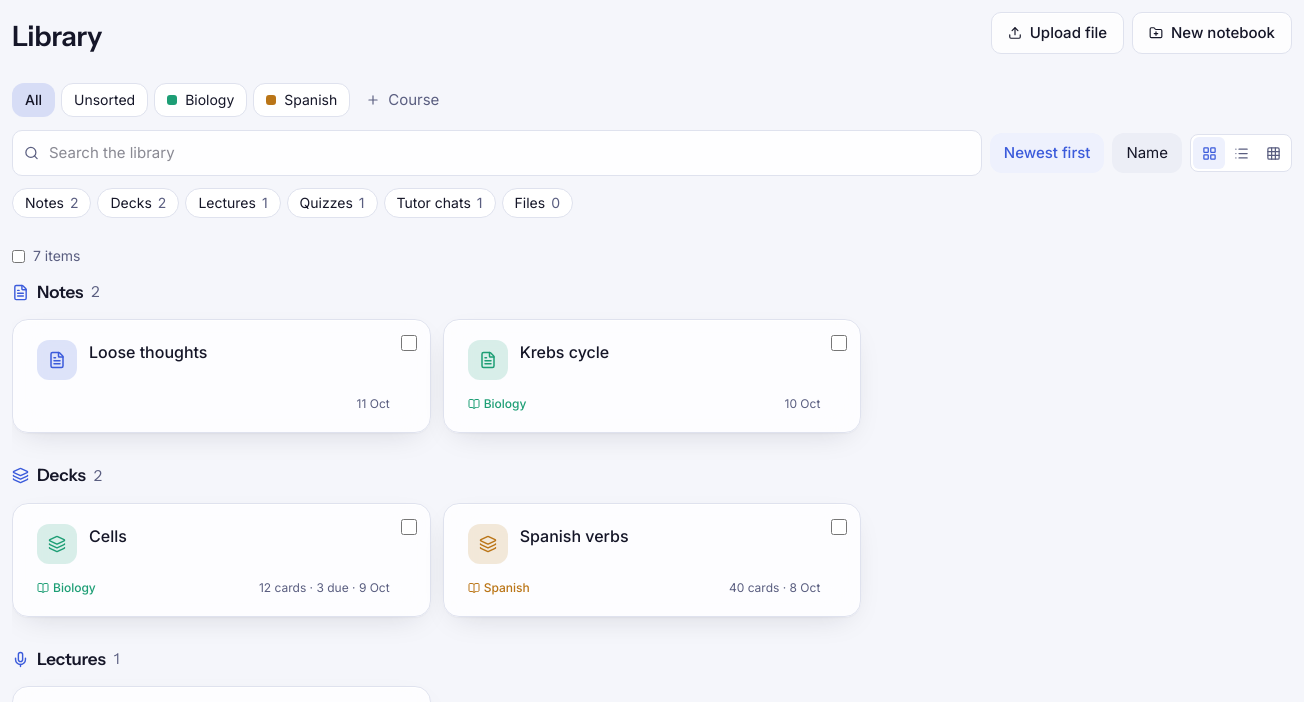
Scenario: Library › moving › drops a ticked item that is no longer in the list after a refresh
Click the checkbox named "Krebs cycle". click: (839, 343)
box: [831,335,847,351]
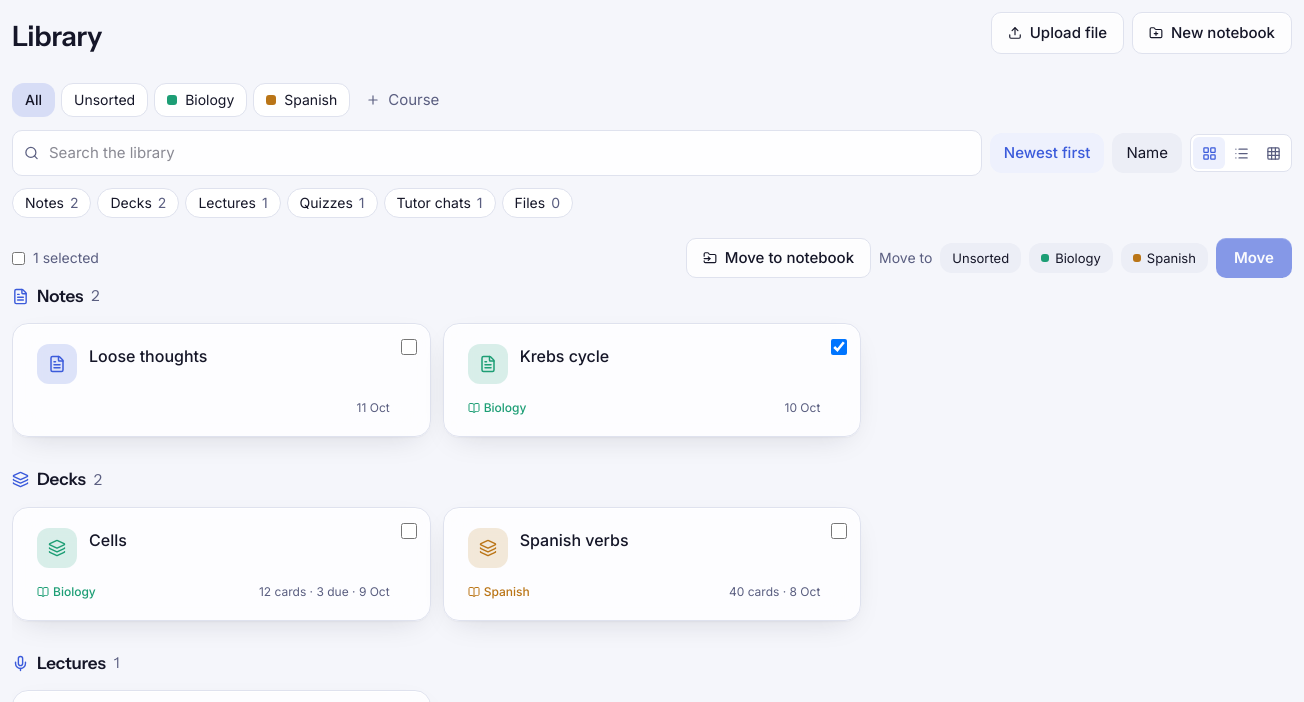
Click the radio button labelled "Spanish". click: (1164, 258)
box: [1121,243,1208,273]
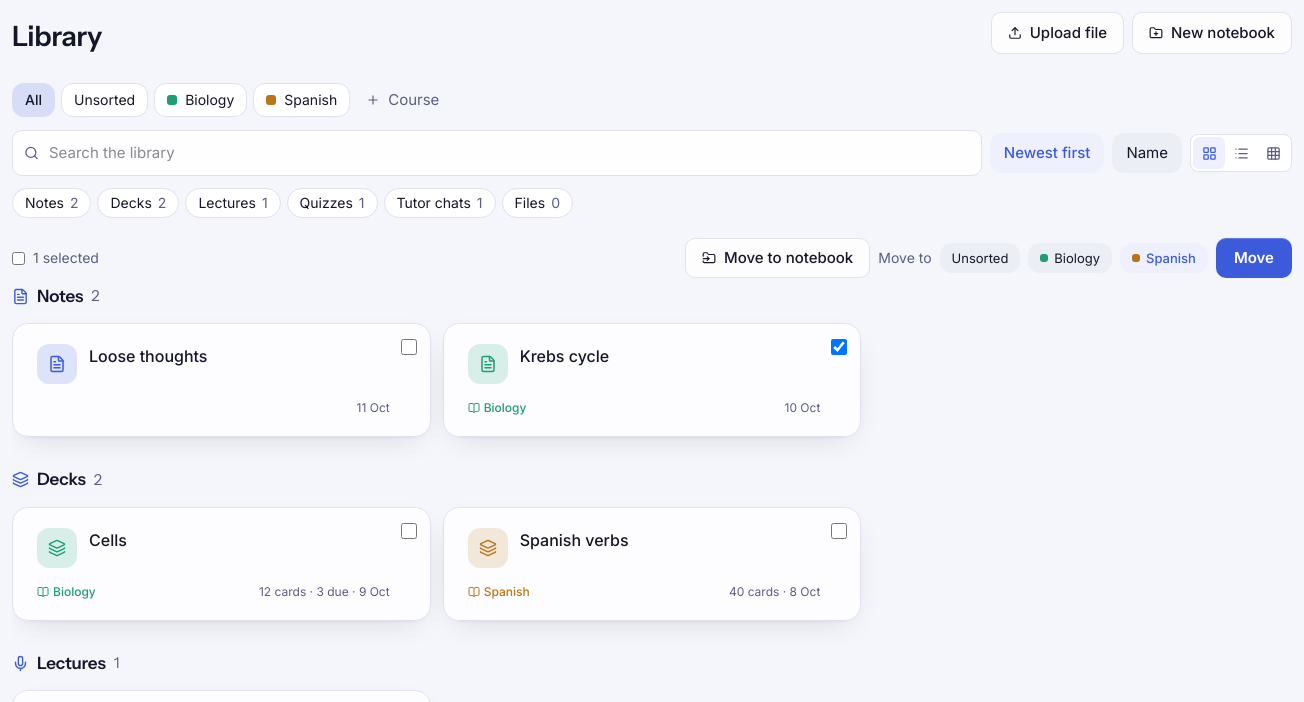
Click the button "Move". click: (1254, 258)
box: [1216,238,1292,278]
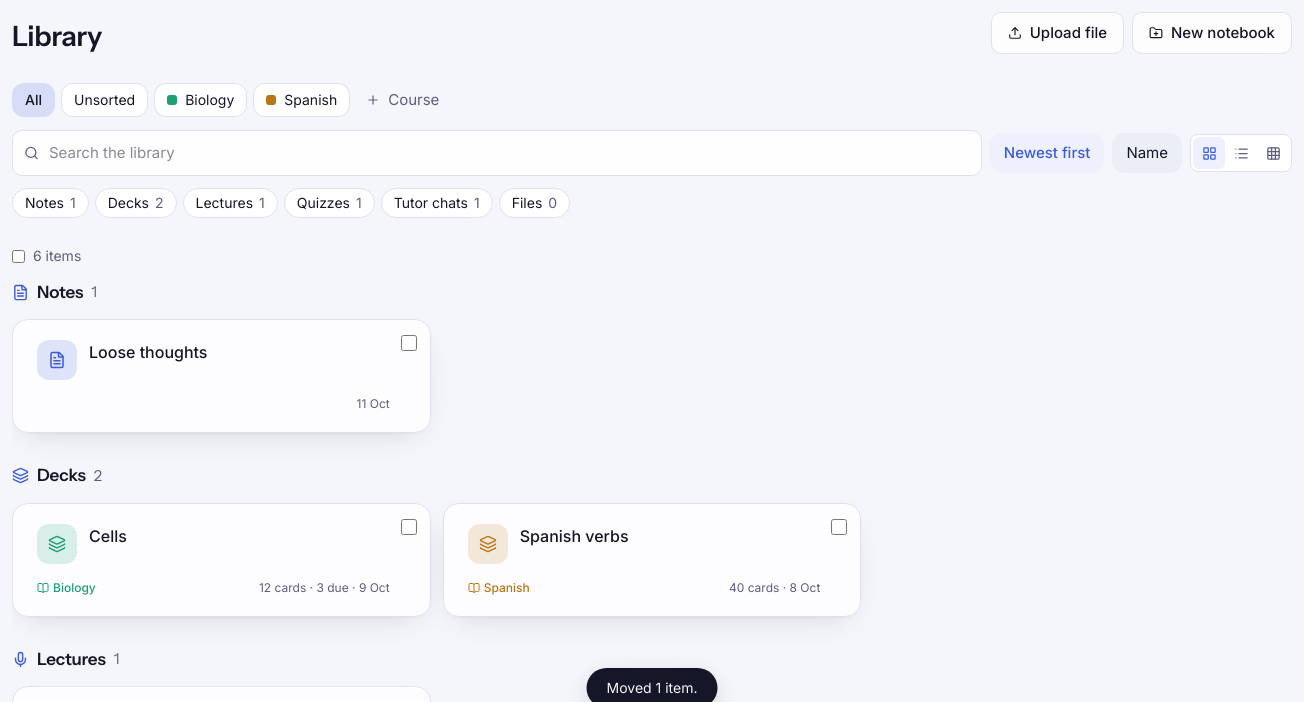
Expected: the text "selected" is gone
